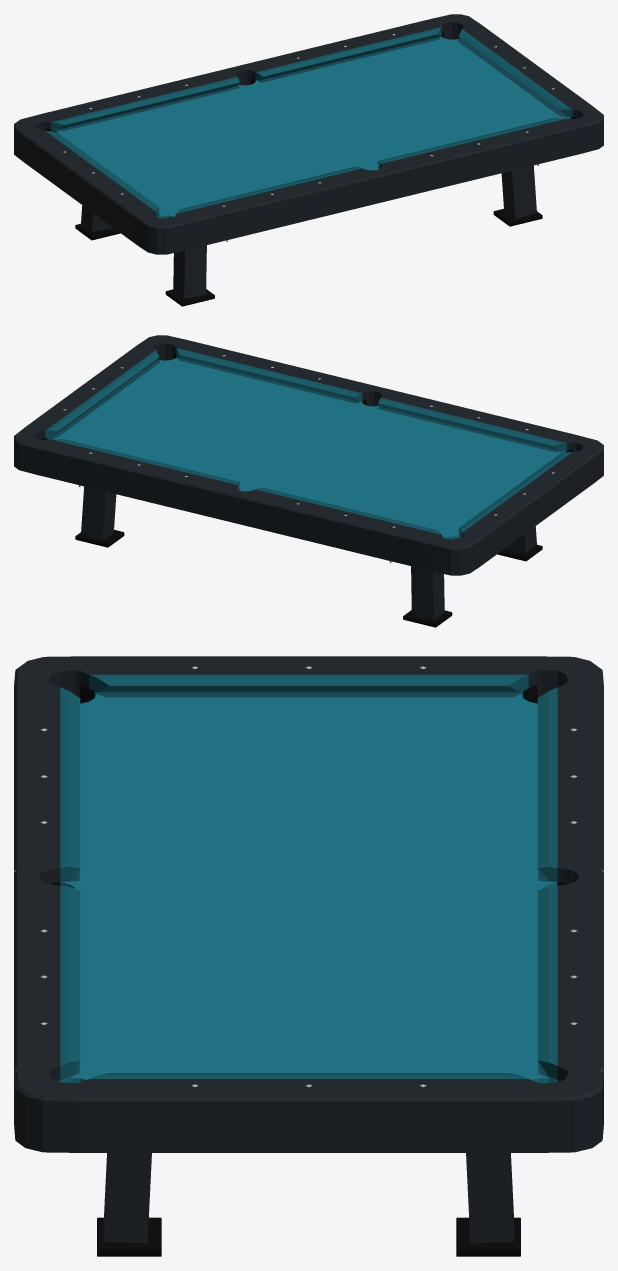
The model's file is table-eightball-10-american-graphite.glb.
3 renders of one model, top to bottom at view 1: azimuth 30°, elevation 25°; view 2: azimuth 150°, elevation 25°; view 3: azimuth 270°, elevation 25°, orthographic. The views are drawn at different scales.
Parts seen in each view (by area): view 1: table-eightball-10-american-graphite, break-builder-table-support; view 2: table-eightball-10-american-graphite, break-builder-table-support; view 3: table-eightball-10-american-graphite, break-builder-table-support.
Part boxes in pixels (left/top/right/bottom): table-eightball-10-american-graphite: left=14, top=14, right=603, bottom=254; break-builder-table-support: left=75, top=165, right=542, bottom=306; table-eightball-10-american-graphite: left=14, top=335, right=603, bottom=575; break-builder-table-support: left=75, top=486, right=542, bottom=627; table-eightball-10-american-graphite: left=14, top=656, right=603, bottom=1152; break-builder-table-support: left=97, top=1153, right=520, bottom=1256.
Size of the model in its own units: 2.87 by 0.6245 by 1.61.
